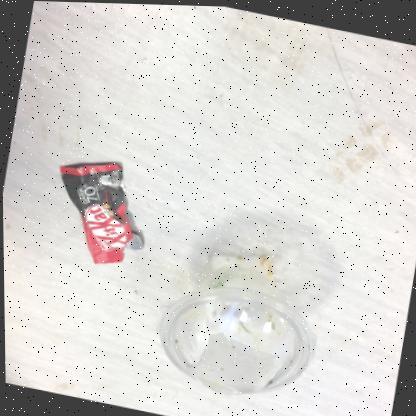Plastic: (154, 254, 315, 394), (59, 162, 142, 263)
